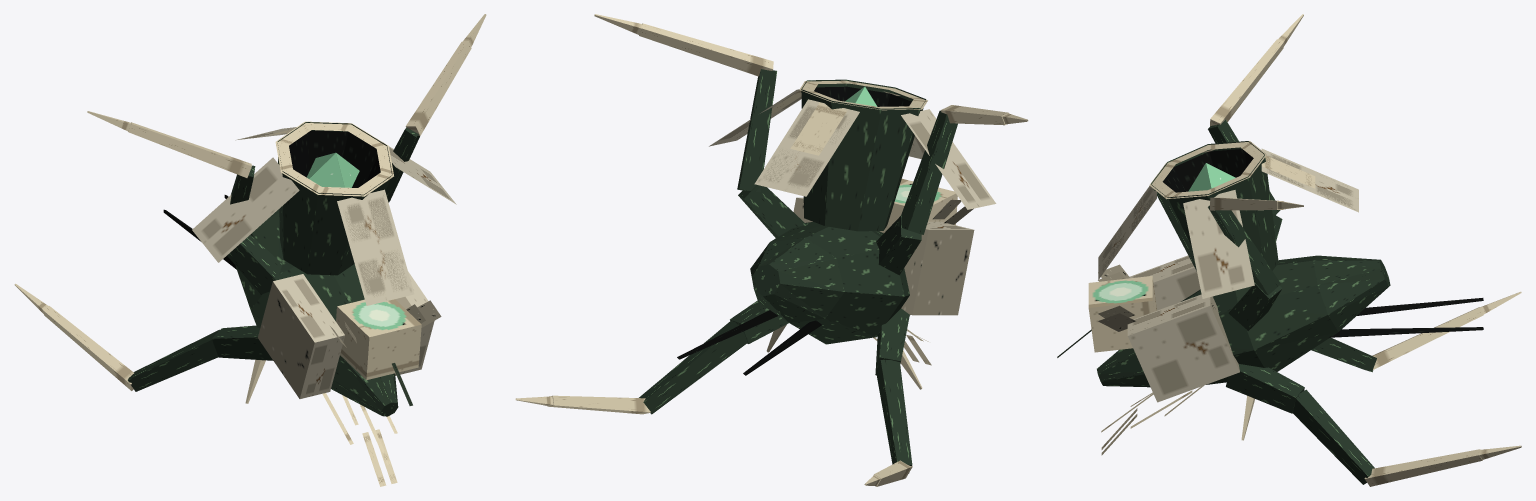
File: vore_warning.obj
3 renders of one model, left to right at view 1: azimuth 30°, elevation 25°; view 2: azimuth 150°, elevation 25°; view 3: azimuth 270°, elevation 25°, orthographic. The views are drawn at different scales.
Visible parts, largest first — view 1: root, funnel, head, petal_top, petal_left, leg_rl_femur, leg_fl_coxa, leg_fl_tibia, leg_fr_tibia, leg_rl_coxa, leg_rl_tibia, pod (+3 smaller); view 2: root, funnel, petal_bottom, leg_fl_femur, leg_rr_femur, leg_fr_femur, petal_left, leg_rl_femur, leg_fr_tibia, leg_fr_coxa, leg_fl_coxa, leg_rr_tibia (+8 smaller); view 3: root, funnel, petal_right, head, leg_rr_femur, petal_bottom, leg_rr_coxa, leg_rr_tibia, leg_fr_femur, leg_fl_tibia, petal_top, leg_rl_tibia (+7 smaller).
Boxes of the visible parts, x1,y1,x2,y2 form: root: (235,209,441,486); funnel: (275,121,393,275); head: (336,299,421,405); petal_top: (337,189,414,305); petal_left: (192,157,299,262); leg_rl_femur: (127,329,219,391); leg_fl_coxa: (227,235,282,294); leg_fl_tibia: (128,122,251,177); leg_fr_tibia: (405,41,471,135); leg_rl_coxa: (212,325,273,360); leg_rl_tibia: (43,306,133,390); pod: (306,152,359,187); root: (750,197,974,389); funnel: (799,79,927,231); petal_bottom: (754,99,859,196); leg_fl_femur: (897,110,957,234); leg_rr_femur: (639,321,747,414); leg_fr_femur: (737,69,776,192); petal_left: (901,109,996,209); leg_rl_femur: (876,360,912,466); leg_fr_tibia: (639,23,773,76); leg_fr_coxa: (738,185,806,237); leg_fl_coxa: (876,215,921,275); leg_rr_tibia: (547,395,650,414); root: (1097,255,1390,455); funnel: (1149,141,1278,271); petal_right: (1183,190,1254,298); head: (1057,276,1156,357); leg_rr_femur: (1293,389,1374,484); petal_bottom: (1261,148,1358,212); leg_rr_coxa: (1226,364,1304,413); leg_rr_tibia: (1364,449,1482,486); leg_fr_femur: (1208,205,1280,295); leg_fl_tibia: (1210,39,1283,126); petal_top: (1098,186,1156,279); leg_rl_tibia: (1372,307,1483,369).
Bounding box in the file's own units: 0.9444 × 0.7853 × 0.9666.
1 material, 1 textured.
